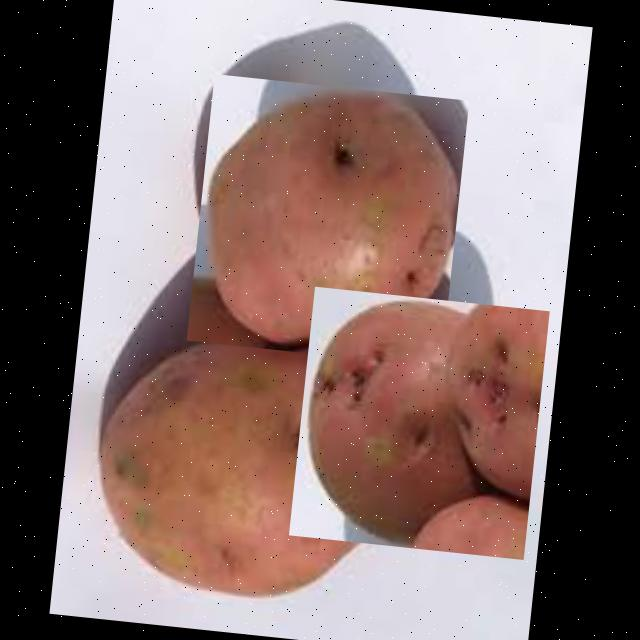Diseased-fungal potato: (84, 321, 412, 618), (185, 74, 468, 366), (287, 286, 548, 560)
